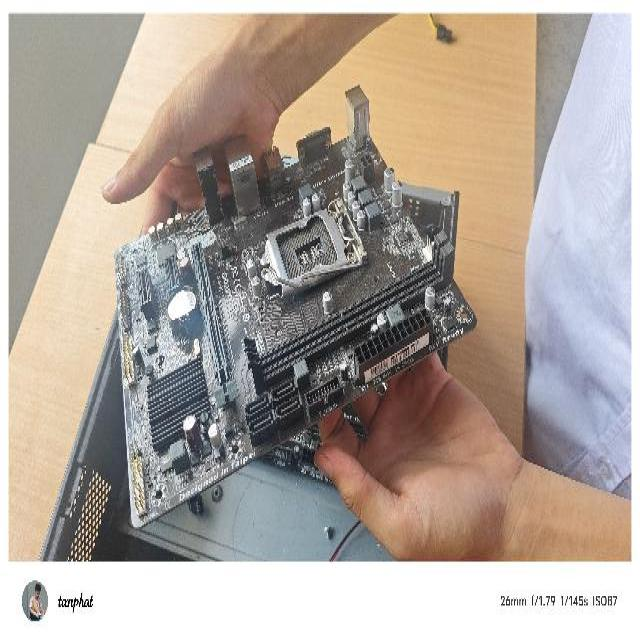Mainboard: (111, 84, 486, 531)
